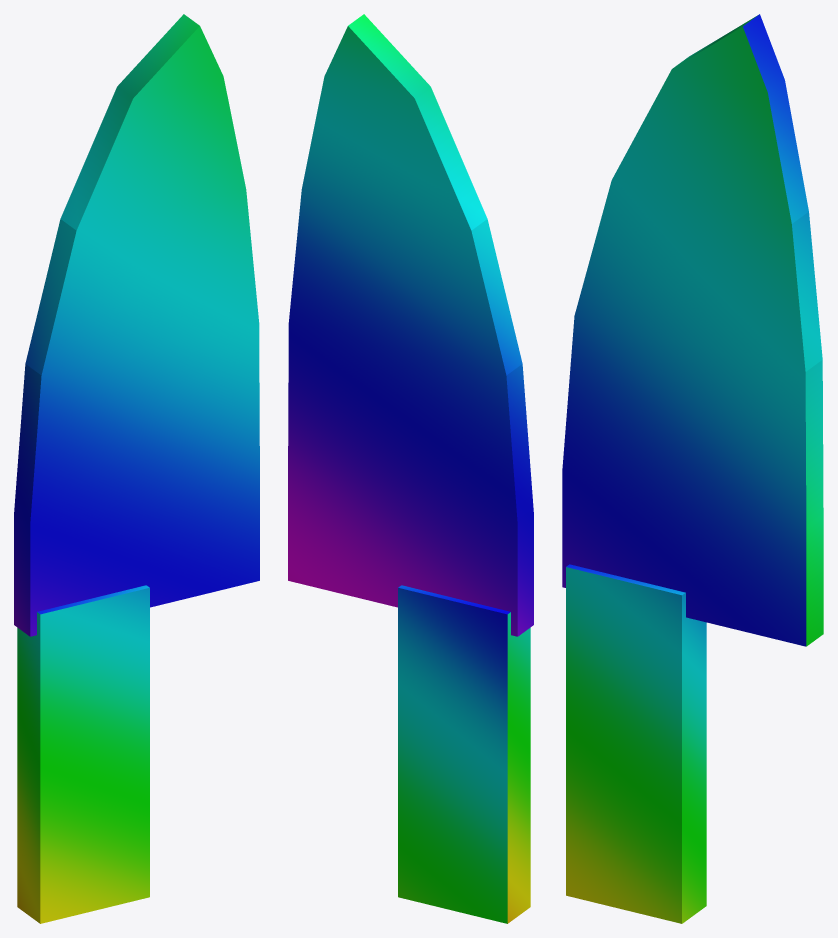
The picture shows the model from 3 angles, left to right: view 1: azimuth 30°, elevation 25°; view 2: azimuth 150°, elevation 25°; view 3: azimuth 330°, elevation 25°; orthographic projection. The views are drawn at different scales.
Visible parts, largest first — view 1: pPrism2, pCube1; view 2: pPrism2, pCube1; view 3: pPrism2, pCube1.
Part boxes in pixels (x1,y1,x2,y2): pPrism2: (14,14,259,636); pCube1: (17,585,149,923); pPrism2: (288,14,533,636); pCube1: (398,585,530,923); pPrism2: (562,14,823,646); pCube1: (566,564,706,923).
Bounding box in the file's own units: 261 × 928 × 45.41.
1 material, 1 textured.
